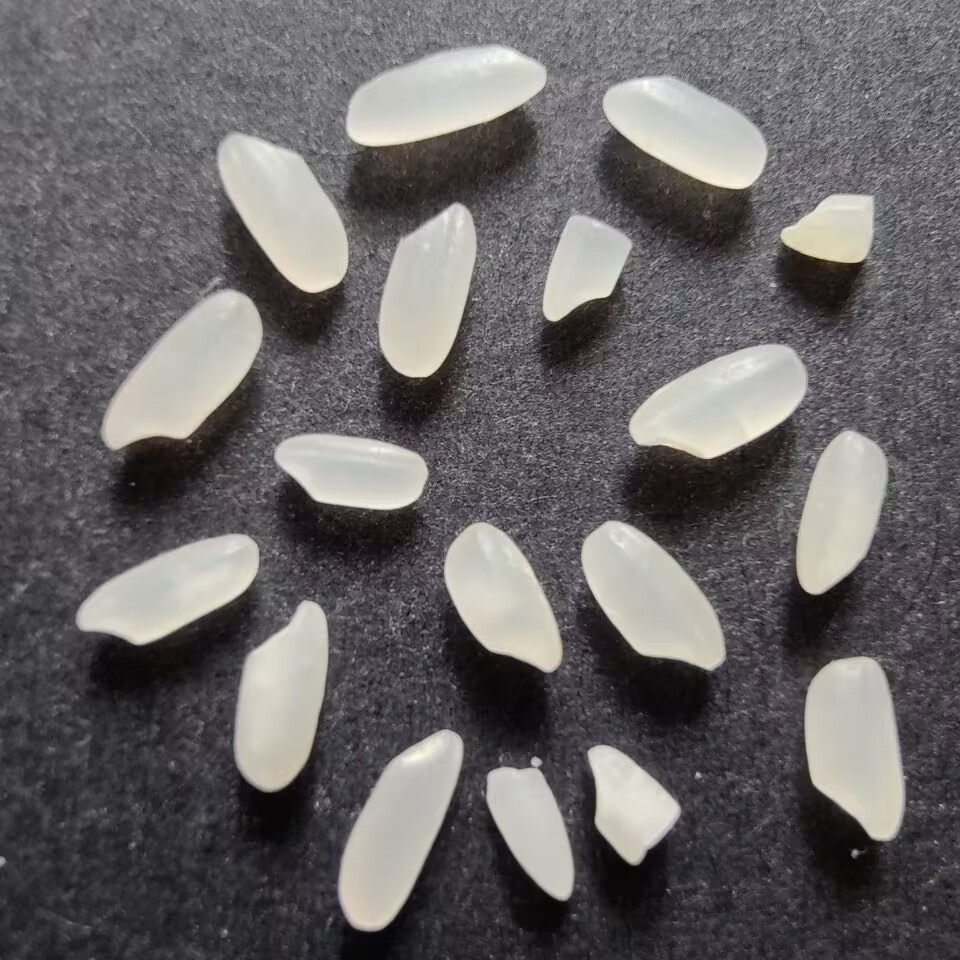broken: (483, 763, 584, 905), (583, 743, 684, 870), (537, 209, 633, 328), (775, 188, 881, 265)
rice: (97, 287, 265, 454), (334, 725, 464, 935), (575, 517, 731, 673), (622, 340, 815, 464), (341, 41, 554, 151), (216, 129, 353, 294), (75, 529, 265, 647), (600, 70, 773, 192), (801, 653, 909, 846), (230, 596, 332, 794), (441, 518, 565, 680), (370, 201, 480, 381), (791, 428, 890, 598), (270, 429, 432, 515)
